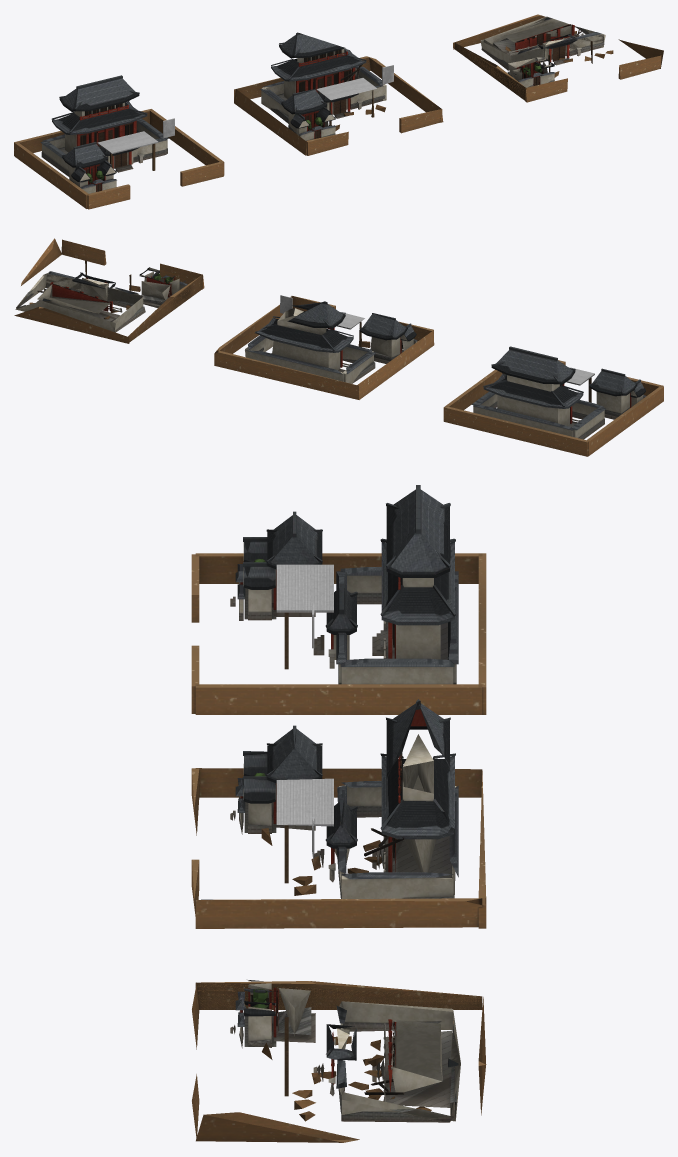
The model's file is civic-kingdoms-sinic.glb.
The picture shows the model from 3 angles, top to bottom: view 1: azimuth 30°, elevation 25°; view 2: azimuth 150°, elevation 25°; view 3: azimuth 270°, elevation 25°; orthographic projection. The views are drawn at different scales.
Parts seen in each view (by area): view 1: LOD0, LOD0.001, LOD0.002; view 2: LOD0, LOD0.001, LOD0.002; view 3: LOD0, LOD0.001, LOD0.002.
Part boxes in pixels (left/top/right/bottom): LOD0: left=14, top=75, right=224, bottom=209; LOD0.001: left=234, top=32, right=443, bottom=155; LOD0.002: left=453, top=14, right=663, bottom=102; LOD0: left=443, top=346, right=663, bottom=456; LOD0.001: left=214, top=295, right=434, bottom=399; LOD0.002: left=14, top=238, right=204, bottom=343; LOD0: left=191, top=485, right=486, bottom=714; LOD0.001: left=191, top=699, right=486, bottom=928; LOD0.002: left=192, top=980, right=486, bottom=1142.
Size of what is drawn, in the model's own units: 7.93 by 0.92 by 1.75.
Materials: 3 (3 with a texture image).
